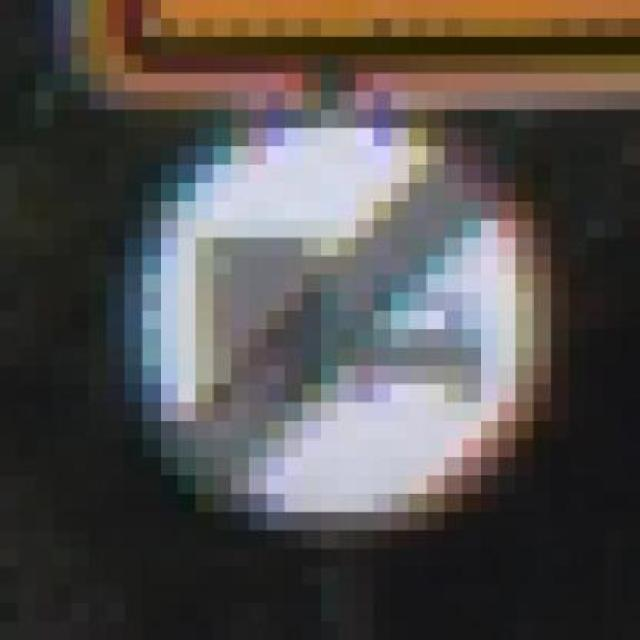Overtaking by trucks is prohibited: (71, 128, 587, 549)
